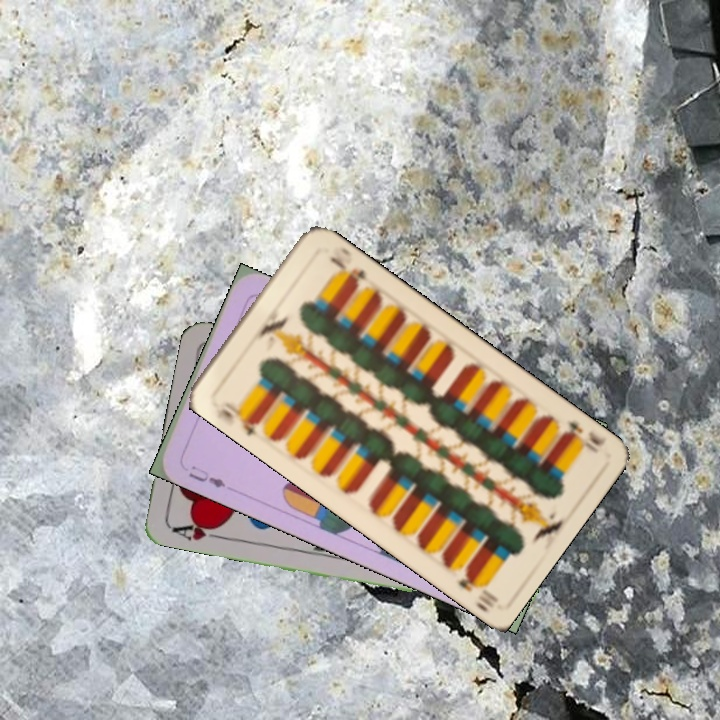E10: (208, 397, 264, 439), (558, 416, 608, 456)
EU: (184, 461, 228, 491)
HA: (168, 515, 227, 543)
